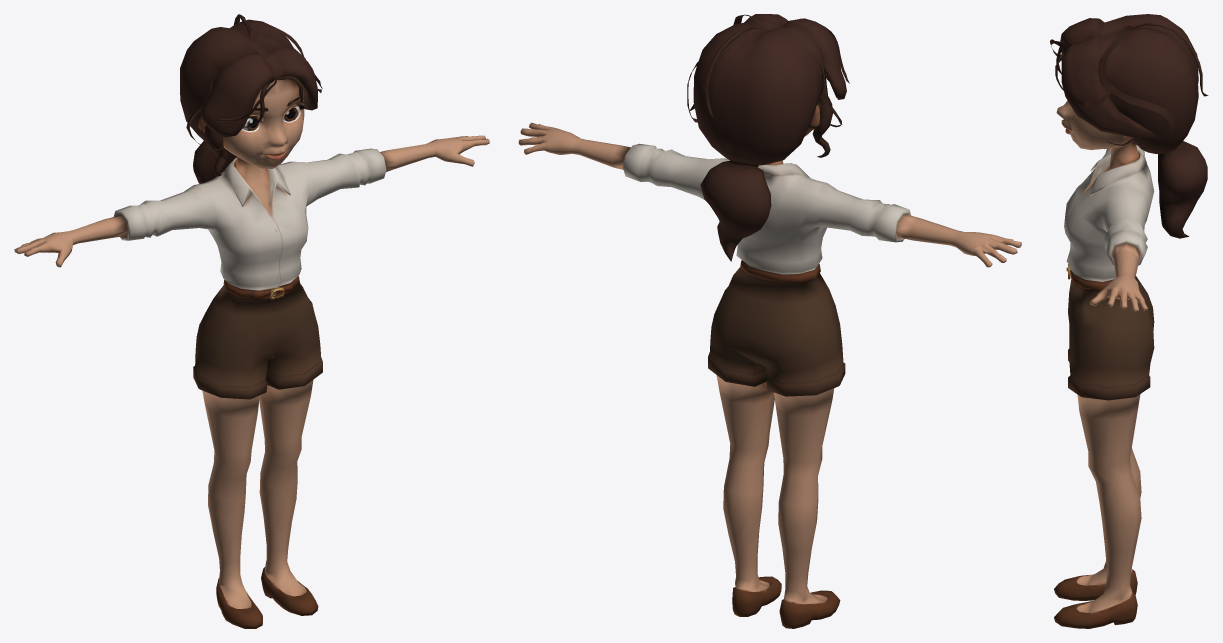
File: chestnut-glasses-teacher.glb
3 views of the same model, side by side, from view 1: azimuth 30°, elevation 25°; view 2: azimuth 150°, elevation 25°; view 3: azimuth 270°, elevation 25° (orthographic). The views are drawn at different scales.
Parts seen in each view (by area): view 1: Chestnut Glasses Teacher; view 2: Chestnut Glasses Teacher; view 3: Chestnut Glasses Teacher.
Boxes of the visible parts, box(x1,y1,x2,y2) form: Chestnut Glasses Teacher: box(14, 14, 489, 628); Chestnut Glasses Teacher: box(518, 14, 1021, 628); Chestnut Glasses Teacher: box(1050, 14, 1208, 628).
Bounding box in the file's own units: 0.8652 × 0.998 × 0.2441.
Materials: 1 (1 with a texture image).
